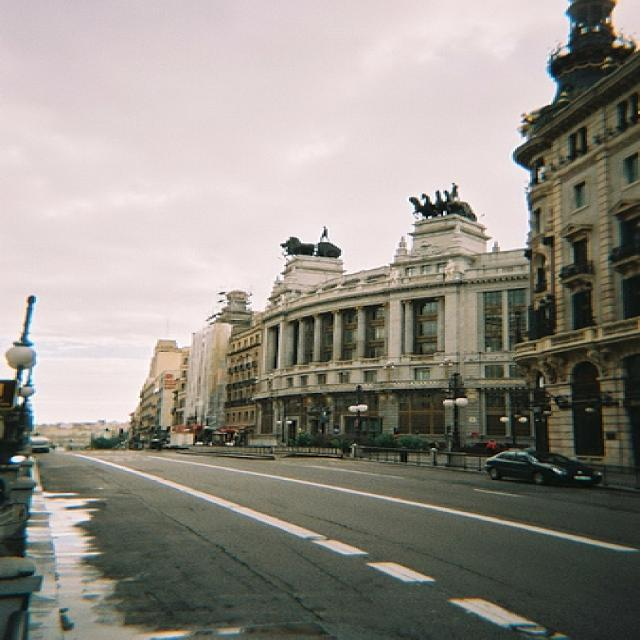car: (482, 445, 605, 490)
